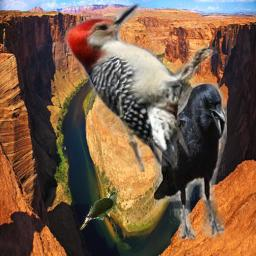Crow: (154, 83, 227, 239)
Cuckoo: (79, 190, 120, 230)
Woodpecker: (60, 0, 223, 172)
